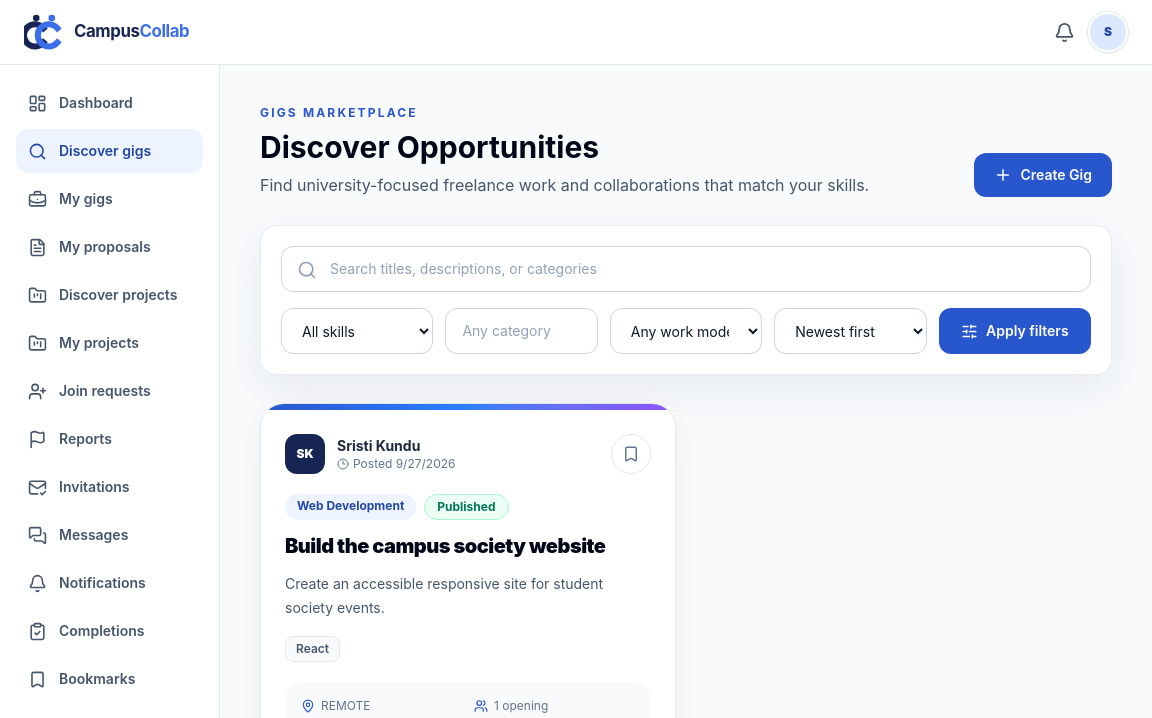
Test case: Gigs Marketplace › bookmarks a gig and updates the visible state
The image size is (1152, 718).
Expected: the link "Build the campus society website" is shown, [285,532,651,560]
Click the button named "Bookmark gig". click: (631, 454)
box: [611,434,651,474]
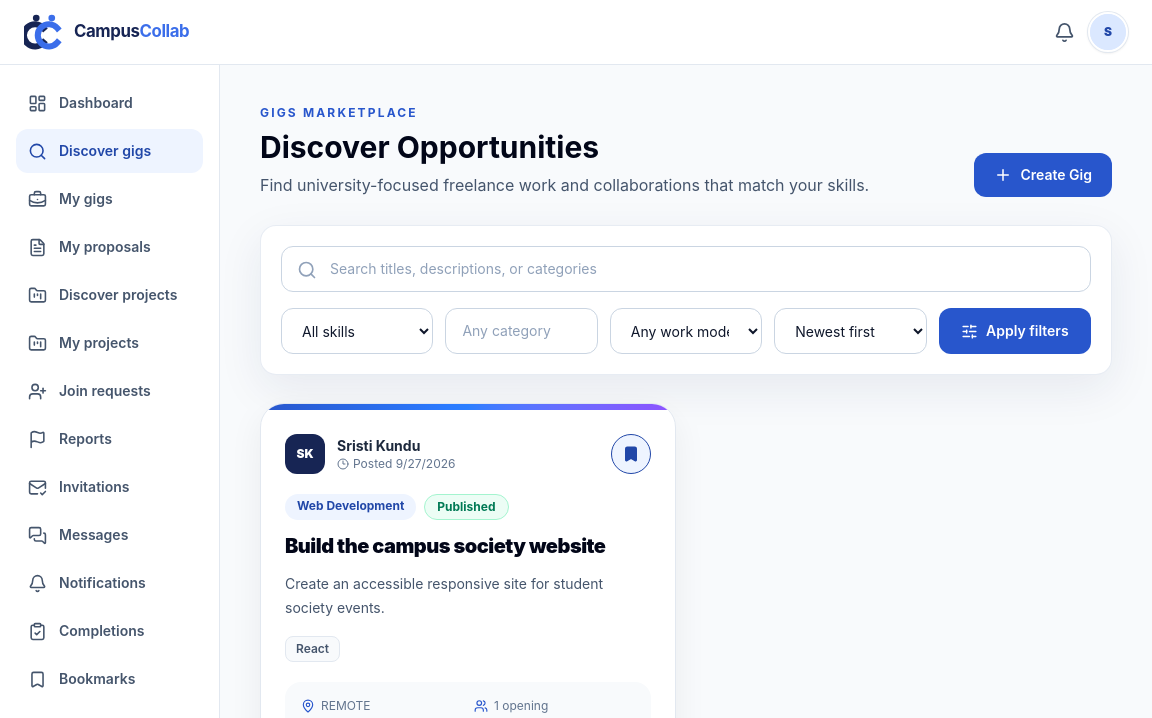
Expected: the button named "Remove bookmark" is shown, [611,434,651,474]
